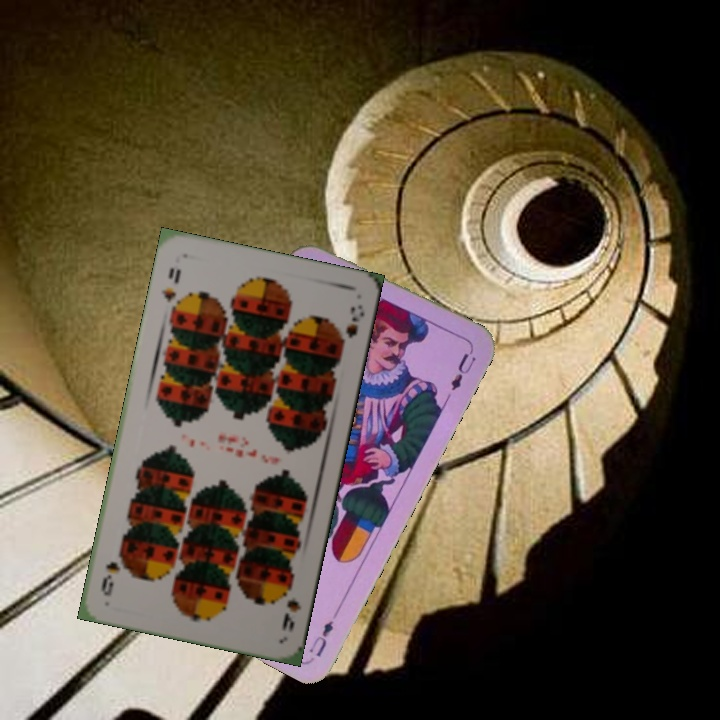EU: (305, 616, 336, 660)
S9: (278, 577, 304, 634), (157, 263, 184, 306)
